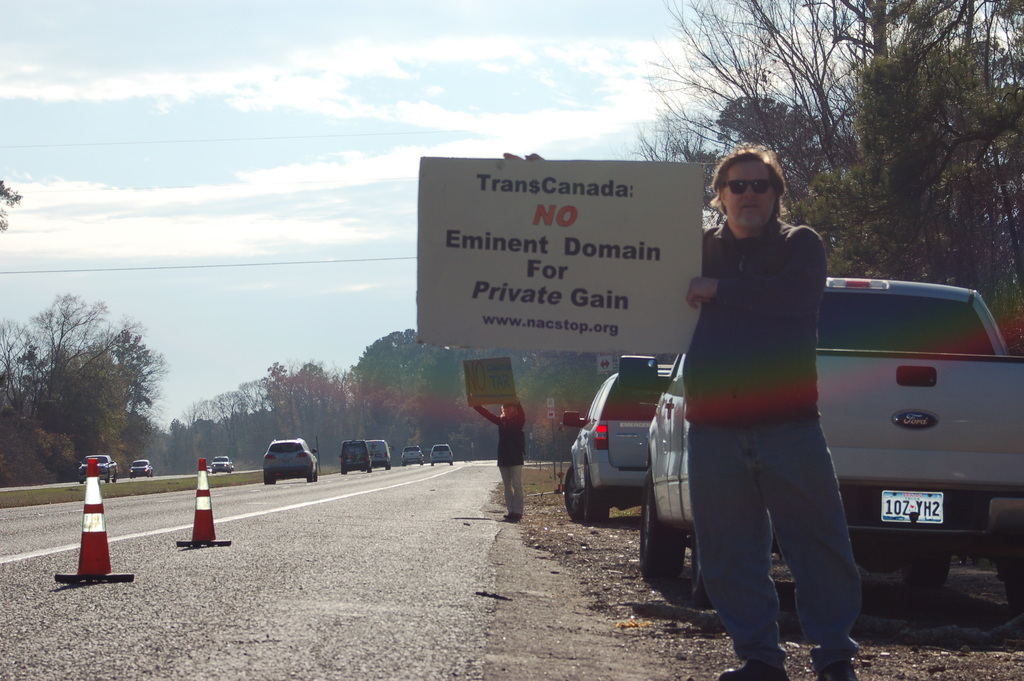Car: (638, 272, 1023, 593), (74, 437, 453, 486), (563, 361, 674, 527)
